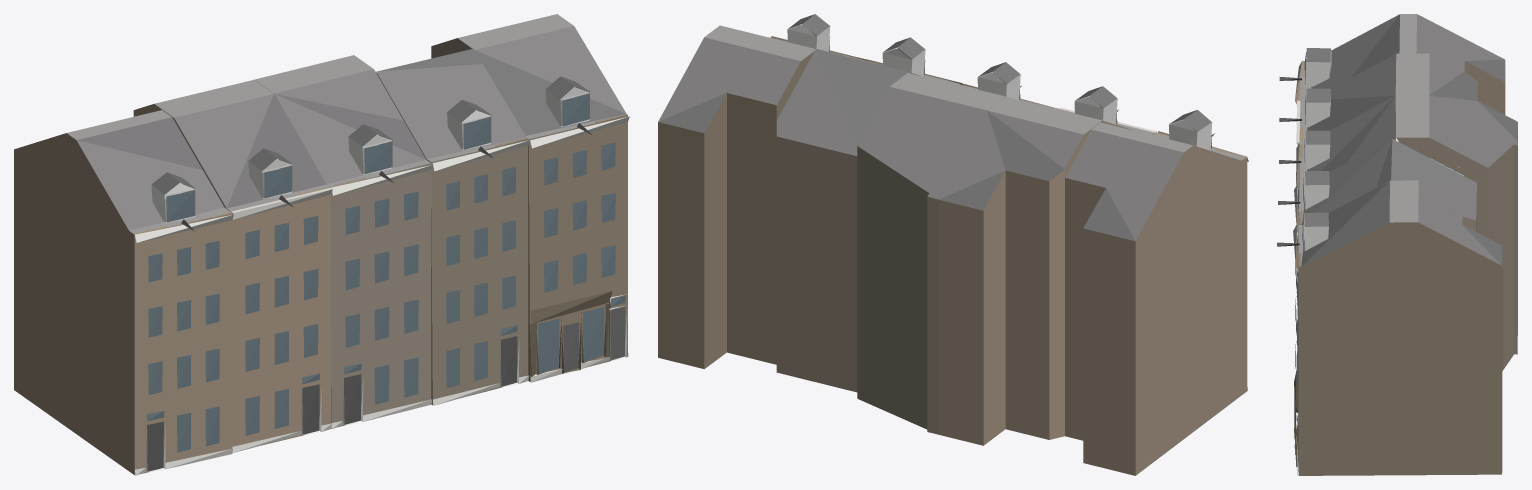
The model's file is chunk-face-bellamydwars-4-12.lod2.glb.
3 renders of one model, left to right at view 1: azimuth 30°, elevation 25°; view 2: azimuth 150°, elevation 25°; view 3: azimuth 270°, elevation 25°, orthographic. The views are drawn at different scales.
Parts seen in each view (by area): view 1: lod2; view 2: lod2; view 3: lod2.
Part boxes in pixels (<box>): lod2: <box>14,14,629,475</box>; lod2: <box>658,14,1248,475</box>; lod2: <box>1277,14,1517,475</box>.
Size of the model in its own units: 26.34 by 15 by 12.86.
